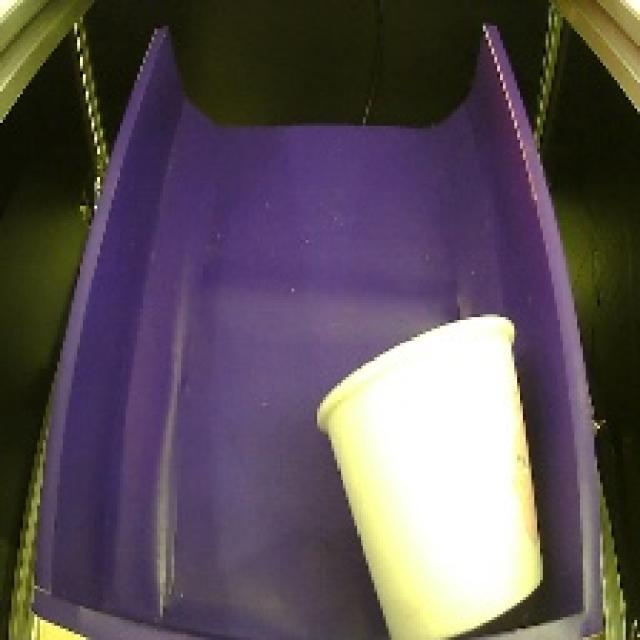cups: (306, 302, 554, 640)
